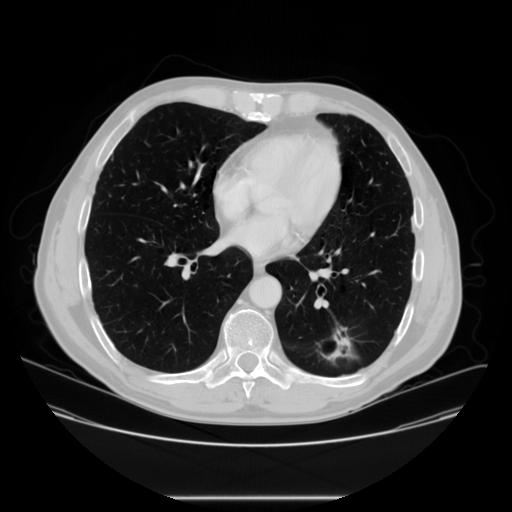nodule: (323, 331, 354, 362)
